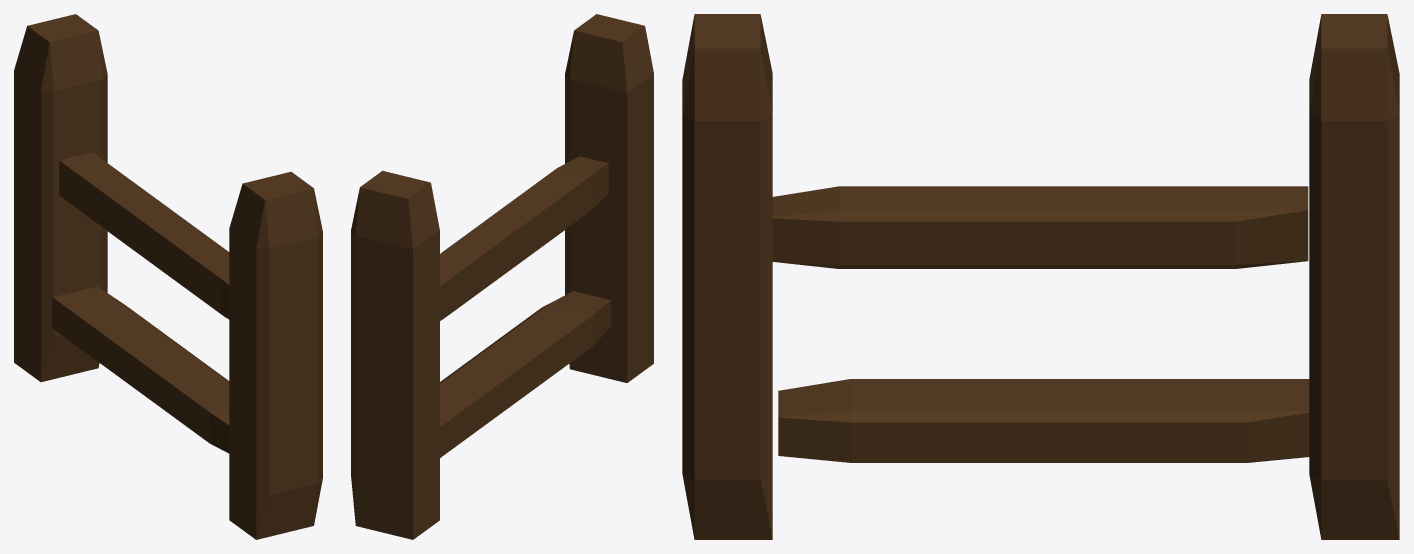
Rendered from fence.fbx.
3 renders of one model, left to right at view 1: azimuth 30°, elevation 25°; view 2: azimuth 150°, elevation 25°; view 3: azimuth 270°, elevation 25°, orthographic. The views are drawn at different scales.
Parts seen in each view (by area): view 1: Cube, Cube.001, Cube.003, Cube.002; view 2: Cube.001, Cube, Cube.003, Cube.002; view 3: Cube.001, Cube, Cube.003, Cube.002.
Boxes of the visible parts, left/top/right/bottom form: Cube: left=229, top=171, right=322, bottom=539; Cube.001: left=14, top=14, right=107, bottom=382; Cube.003: left=52, top=286, right=229, bottom=453; Cube.002: left=59, top=152, right=229, bottom=319; Cube.001: left=351, top=170, right=439, bottom=539; Cube: left=565, top=14, right=653, bottom=382; Cube.003: left=440, top=291, right=610, bottom=457; Cube.002: left=440, top=156, right=608, bottom=320; Cube.001: left=1309, top=14, right=1399, bottom=539; Cube: left=682, top=14, right=772, bottom=539; Cube.003: left=778, top=379, right=1309, bottom=462; Cube.002: left=772, top=186, right=1308, bottom=268.
Bounding box in the file's own units: 129 × 627 × 829.
